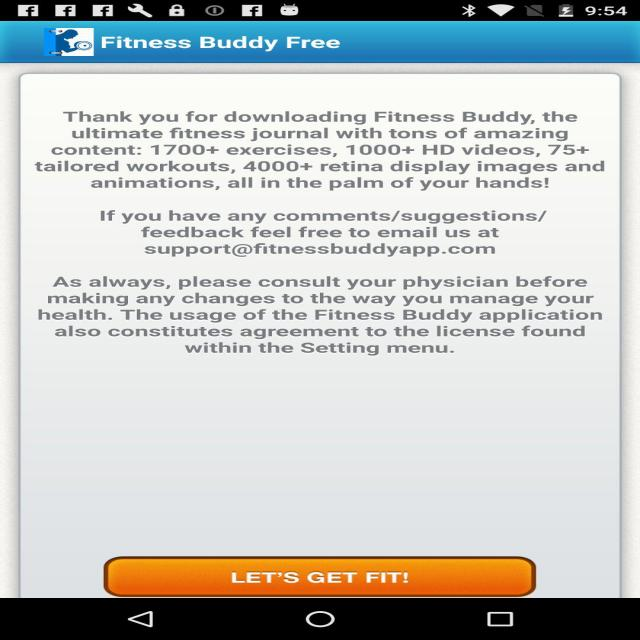button: (83, 534, 564, 608)
icon: (16, 15, 121, 64)
text: (38, 95, 627, 431), (112, 21, 389, 62)
